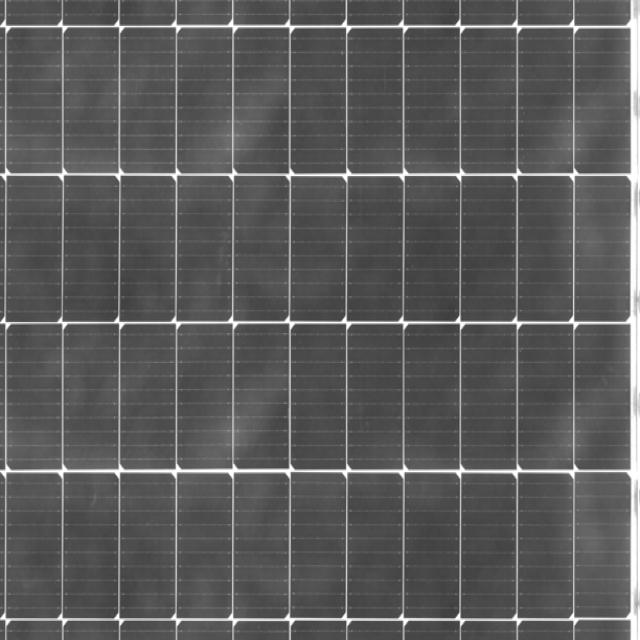CORRECT: (0, 0, 640, 640), (79, 79, 600, 571), (187, 149, 508, 463)
